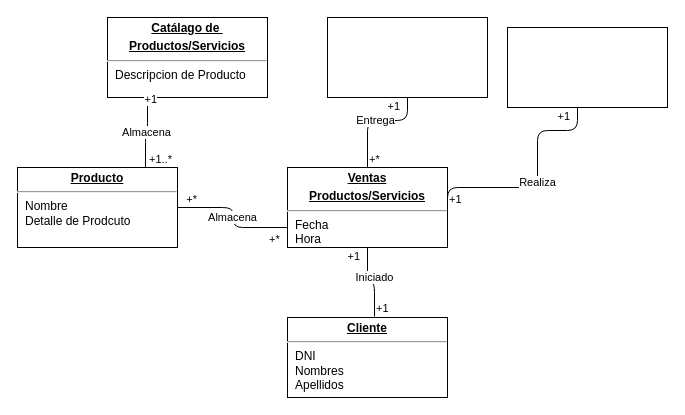
Some shapes in this 685 by 415 pixel diagram are drawn without their labels. Each missing label, with the centre of its shape:
"Repartidor DNI Nombres Apellidos" goes at (407,57).
"Vendedor Nombres Apellidos" goes at (587,67).
